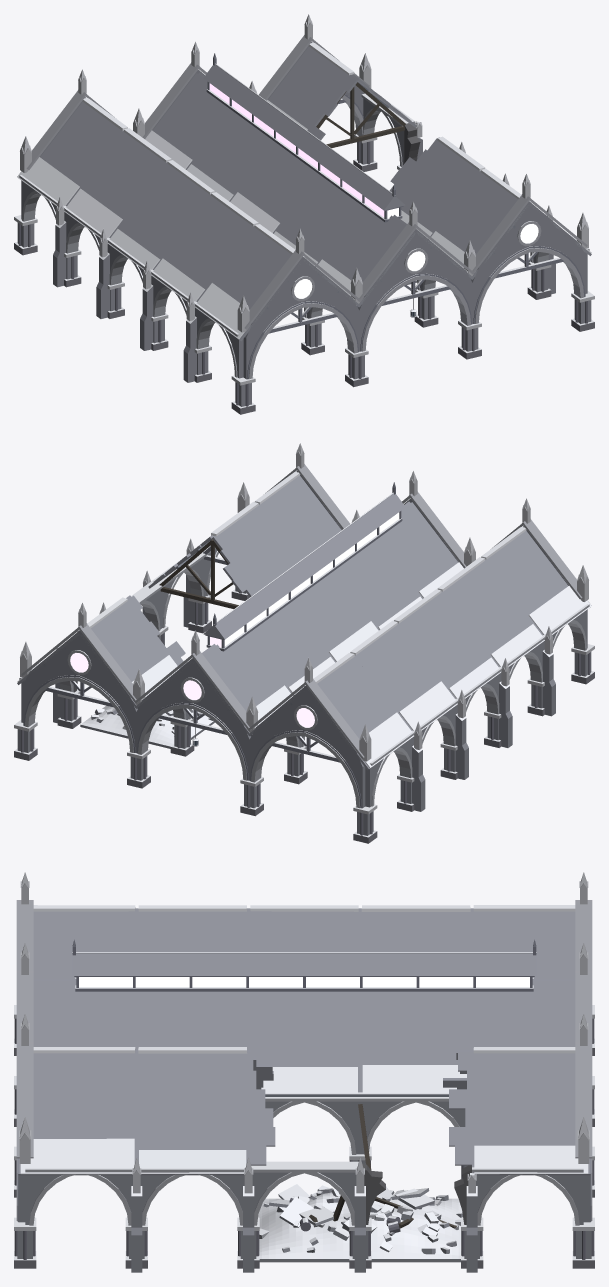
Rendered from AR_Salao_Feira.fbx.
3 renders of one model, top to bottom at view 1: azimuth 30°, elevation 25°; view 2: azimuth 150°, elevation 25°; view 3: azimuth 270°, elevation 25°, orthographic. The views are drawn at different scales.
Visible parts, largest first — view 1: AR_Salao_Feira; view 2: AR_Salao_Feira; view 3: AR_Salao_Feira.
Part boxes in pixels (left/top/right/bottom): AR_Salao_Feira: left=14, top=14, right=594, bottom=414; AR_Salao_Feira: left=14, top=443, right=594, bottom=843; AR_Salao_Feira: left=14, top=872, right=594, bottom=1272.
Size of the model in its own units: 48.8 by 21.98 by 52.
